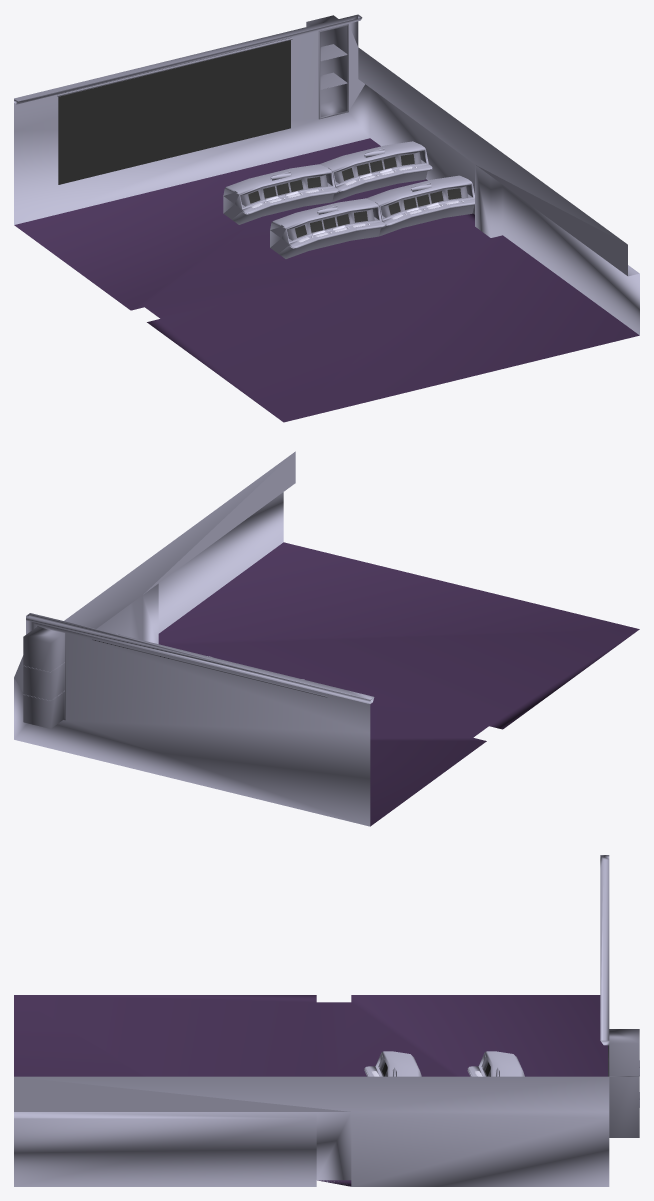
The model's file is controlroom.gltf.
3 renders of one model, top to bottom at view 1: azimuth 30°, elevation 25°; view 2: azimuth 150°, elevation 25°; view 3: azimuth 270°, elevation 25°, orthographic. The views are drawn at different scales.
Parts seen in each view (by area): view 1: jscmiscon1_27, jscmiscon1_43, jscmiscon1_42, jscmiscon1_40, jscmiscon1_4, jscmiscon1_1, jscmiscon1_6, jscmiscon1_41, jscmiscon1_5, jscmiscon1; view 2: jscmiscon1_27, jscmiscon1_43, jscmiscon1_42, jscmiscon1_1; view 3: jscmiscon1_42, jscmiscon1_27, jscmiscon1_1, jscmiscon1_43, jscmiscon1_4.
Part boxes in pixels (x1,y1,x2,y2): jscmiscon1_27: (14,138,639,422); jscmiscon1_43: (14,14,370,224); jscmiscon1_42: (358,47,639,335); jscmiscon1_40: (58,40,290,184); jscmiscon1_4: (223,141,474,258); jscmiscon1_1: (57,15,348,119); jscmiscon1_6: (240,151,472,241); jscmiscon1_41: (248,154,461,237); jscmiscon1_5: (242,164,474,248); jscmiscon1: (251,166,463,242); jscmiscon1_27: (158,542,639,826); jscmiscon1_43: (14,613,374,826); jscmiscon1_42: (64,451,295,643); jscmiscon1_1: (23,625,327,728); jscmiscon1_42: (14,1076,609,1186); jscmiscon1_27: (14,995,607,1186); jscmiscon1_1: (608,1029,639,1137); jscmiscon1_43: (600,855,609,1045); jscmiscon1_4: (375,1051,524,1076).
Bounding box in the file's own units: 14.51 × 4.93 × 19.99.
